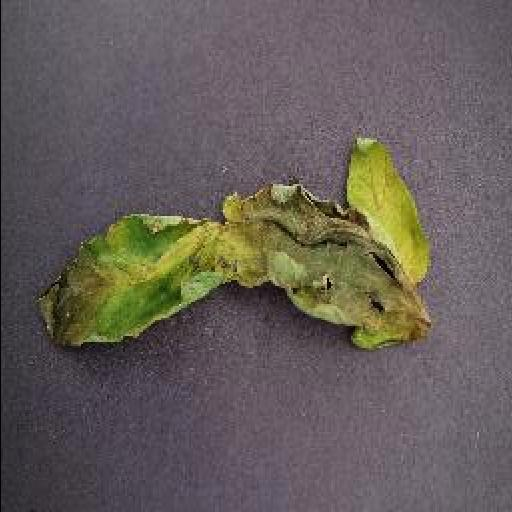disease_tomato: (30, 132, 434, 352)
